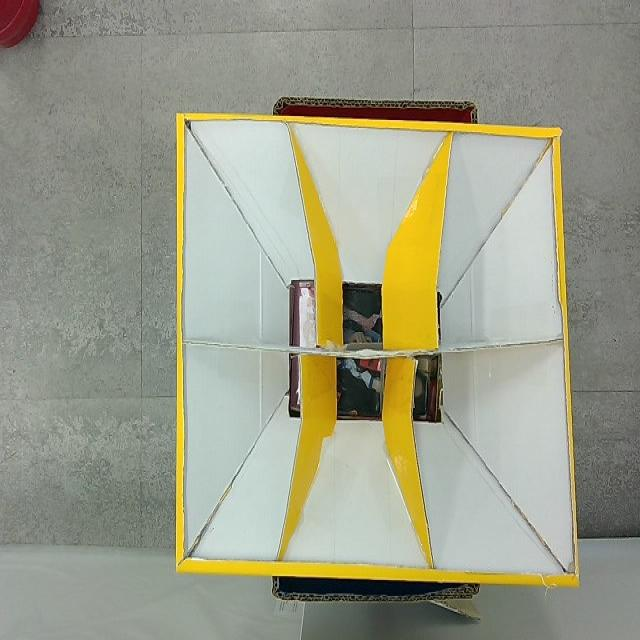box: (175, 97, 580, 600)
